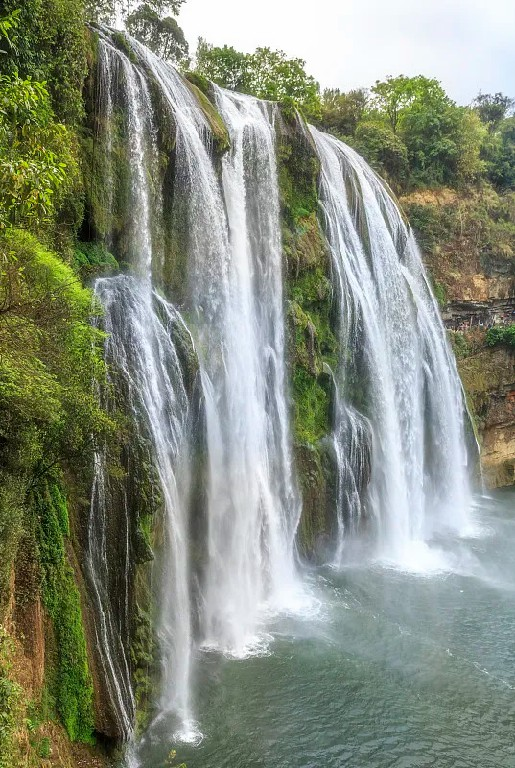Huangguoshu: (86, 25, 490, 741)
